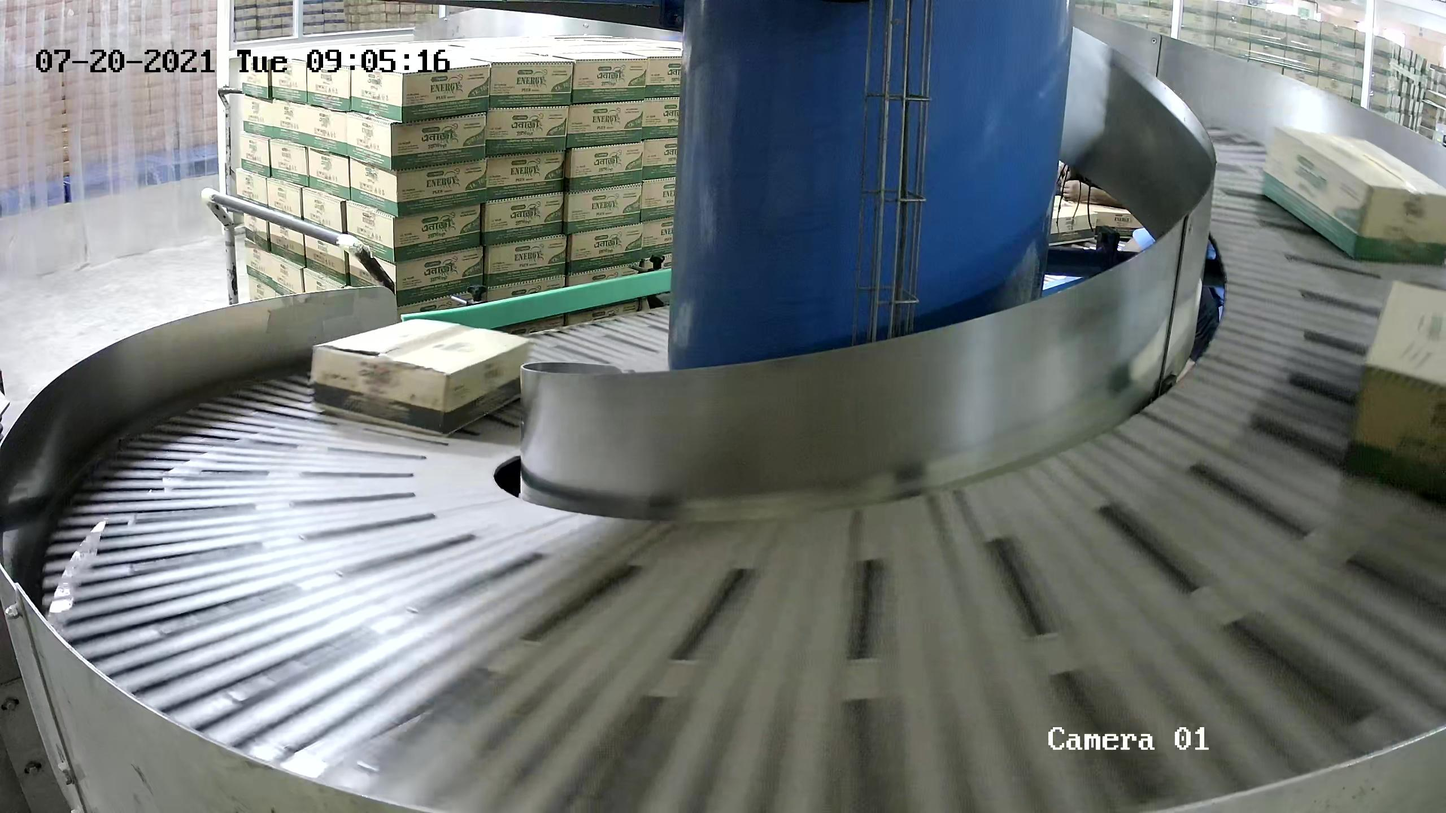Box: (311, 317, 532, 439), (1260, 124, 1446, 265), (1342, 279, 1446, 510)
